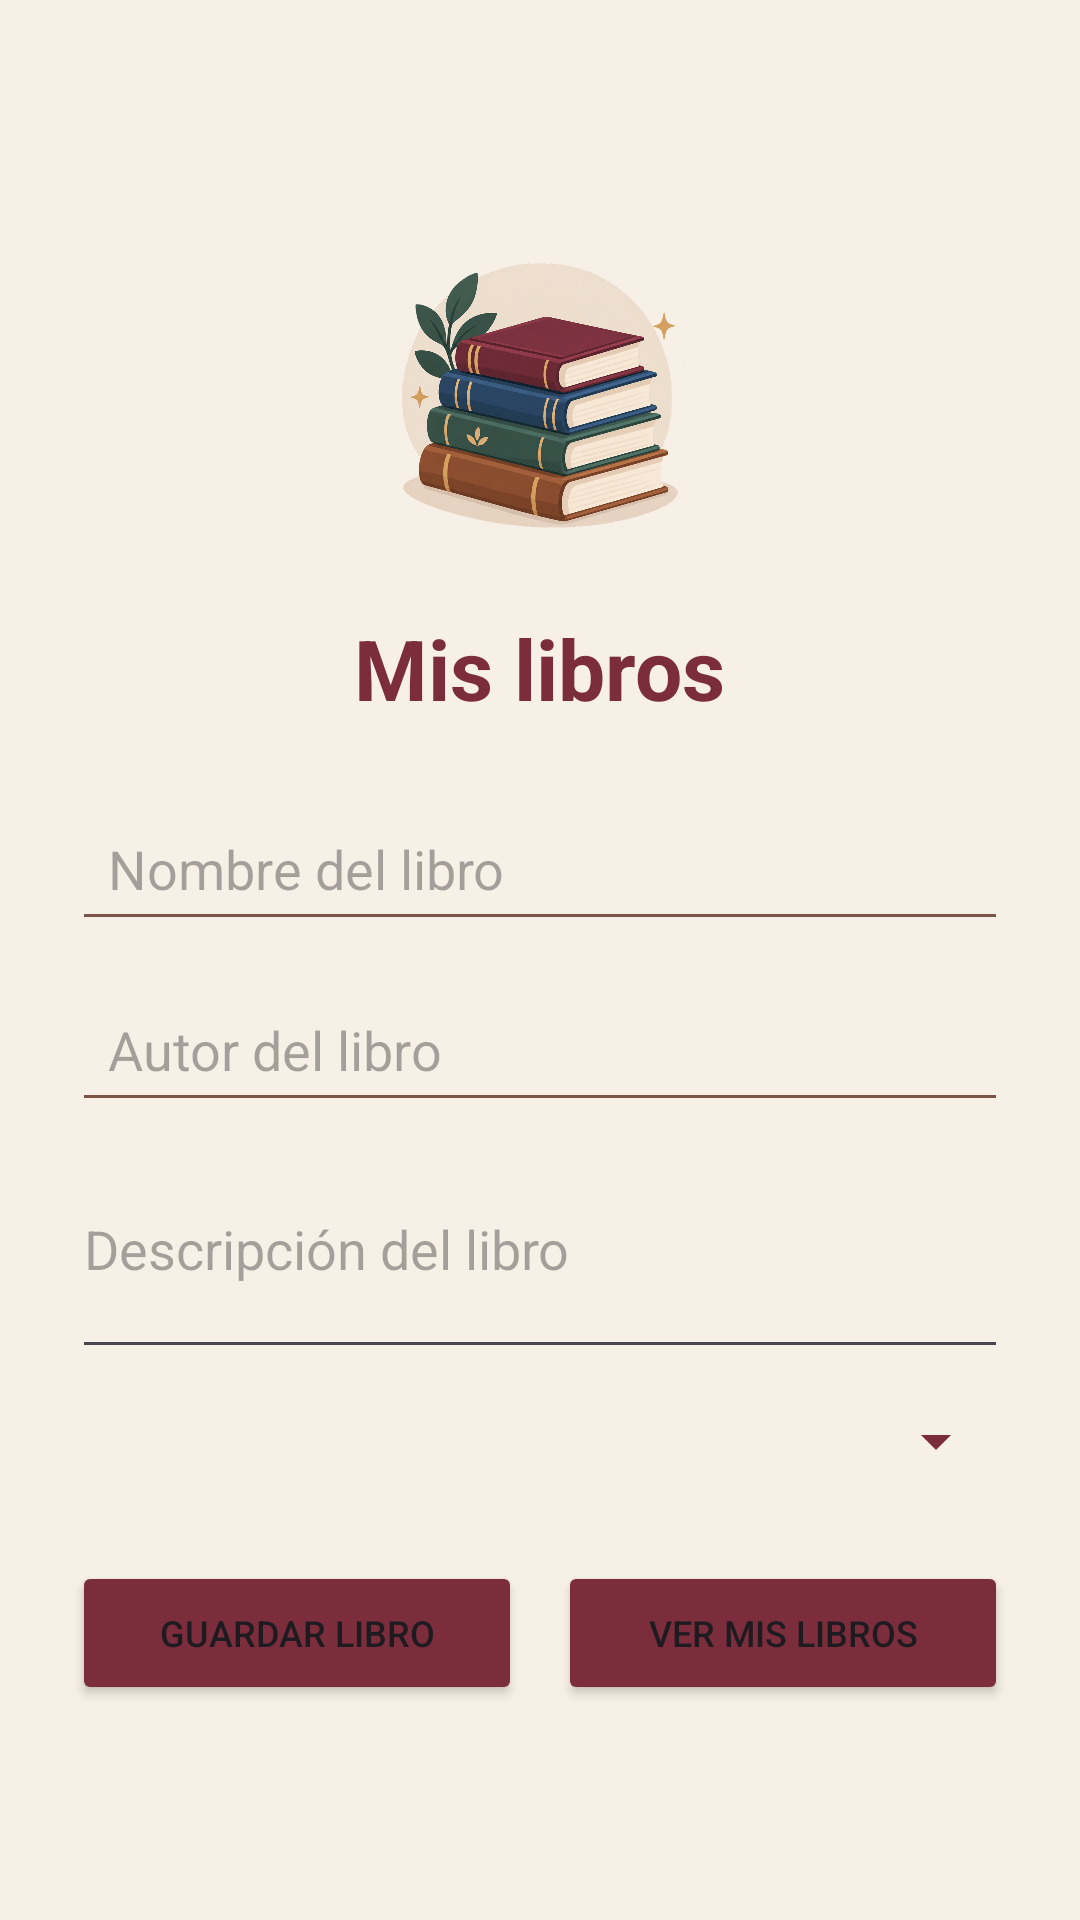

Screen size 1080w x 1920h. Icon name, then its box in pixels as (x1, y1, x2, y2):
Ilustración de libros: (402, 264, 678, 527)
